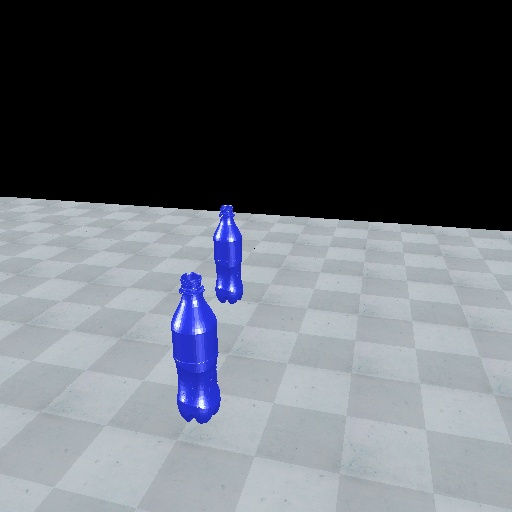bottle: (168, 271, 223, 425), (211, 202, 245, 304)
